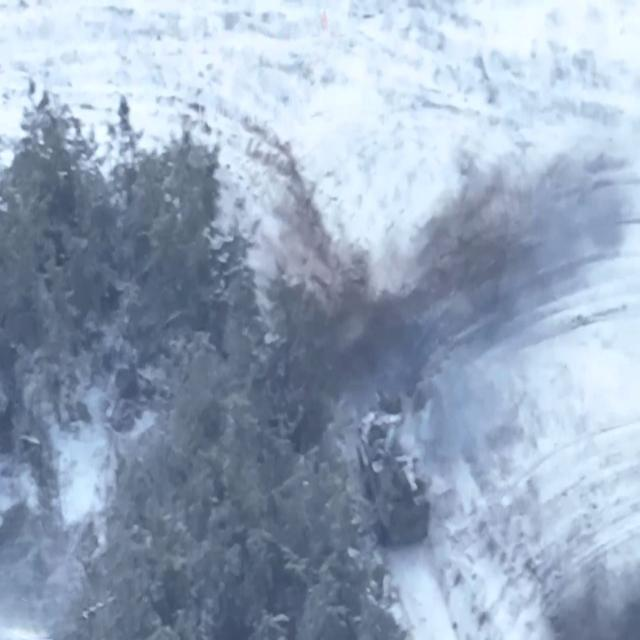APC: (358, 387, 432, 549)
